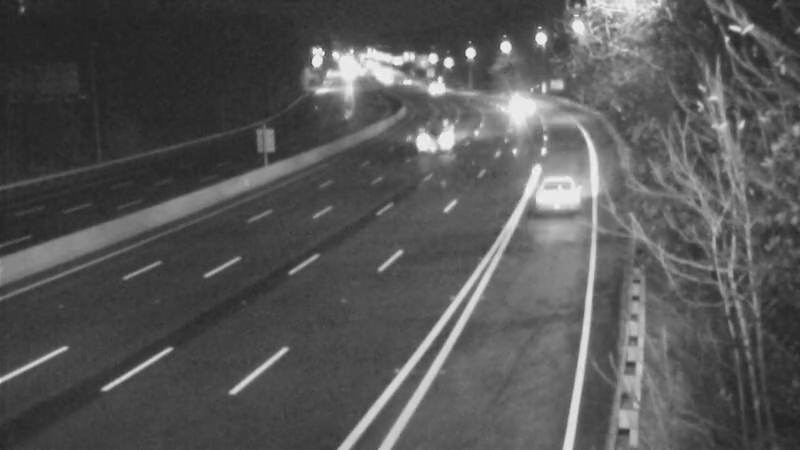vehicle: (519, 162, 599, 242), (381, 59, 431, 109), (410, 65, 460, 115), (497, 80, 547, 130), (409, 118, 459, 168)
